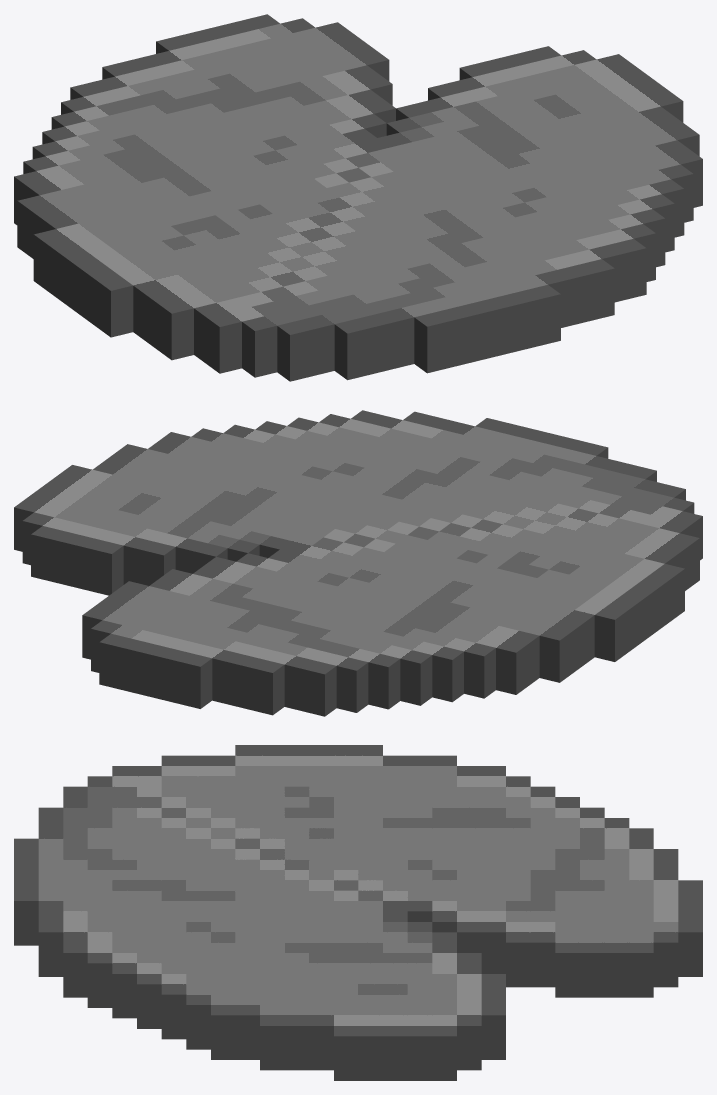
Rendered from block_lily_pad_1.gltf.
3 views of the same model, one above another, from view 1: azimuth 30°, elevation 25°; view 2: azimuth 150°, elevation 25°; view 3: azimuth 270°, elevation 25° (orthographic). The views are drawn at different scales.
Parts seen in each view (by area): view 1: Cube5, Cube1, Cube2, Cube15, Cube6, Cube12, Cube18, Cube8, Cube10, Cube7, Cube4, Cube3 (+16 smaller); view 2: Cube5, Cube2, Cube1, Cube6, Cube20, Cube3, Cube19, Cube17, Cube4, Cube9, Cube7, Cube8 (+16 smaller); view 3: Cube5, Cube2, Cube1, Cube6, Cube3, Cube7, Cube8, Cube10, Cube9, Cube12, Cube11, Cube13 (+16 smaller).
Boxes of the visible parts, x1=… form: Cube5: x1=30, y1=128, x2=505, y2=360; Cube1: x1=33, y1=82, x2=683, y2=299; Cube2: x1=59, y1=106, x2=699, y2=327; Cube15: x1=334, y1=259, x2=614, y2=380; Cube6: x1=14, y1=89, x2=395, y2=224; Cube12: x1=277, y1=239, x2=646, y2=381; Cube18: x1=414, y1=285, x2=560, y2=373; Cube8: x1=207, y1=209, x2=665, y2=373; Cube10: x1=242, y1=224, x2=655, y2=377; Cube7: x1=194, y1=194, x2=674, y2=363; Cube4: x1=17, y1=114, x2=386, y2=256; Cube3: x1=98, y1=140, x2=689, y2=337; Cube5: x1=268, y1=464, x2=699, y2=673; Cube2: x1=93, y1=444, x2=673, y2=644; Cube1: x1=49, y1=465, x2=638, y2=661; Cube6: x1=193, y1=557, x2=539, y2=694; Cube20: x1=99, y1=633, x2=212, y2=708; Cube3: x1=148, y1=440, x2=684, y2=619; Cube19: x1=91, y1=620, x2=284, y2=715; Cube17: x1=82, y1=607, x2=336, y2=716; Cube4: x1=236, y1=553, x2=571, y2=682; Cube9: x1=161, y1=569, x2=495, y2=698; Cube7: x1=255, y1=421, x2=691, y2=535; Cube8: x1=287, y1=417, x2=702, y2=560; Cube5: x1=161, y1=755, x2=432, y2=921; Cube2: x1=260, y1=745, x2=333, y2=1070; Cube1: x1=334, y1=745, x2=382, y2=1080; Cube6: x1=457, y1=766, x2=505, y2=973; Cube3: x1=235, y1=745, x2=259, y2=1059; Cube7: x1=137, y1=766, x2=161, y2=1028; Cube8: x1=112, y1=766, x2=136, y2=1018; Cube10: x1=87, y1=776, x2=112, y2=1007; Cube9: x1=506, y1=776, x2=530, y2=987; Cube12: x1=63, y1=786, x2=87, y2=997; Cube11: x1=530, y1=786, x2=555, y2=987; Cube13: x1=555, y1=797, x2=579, y2=997.
Size of the model in its own units: 0.875 by 0.0625 by 0.875.
1 material, 1 textured.
